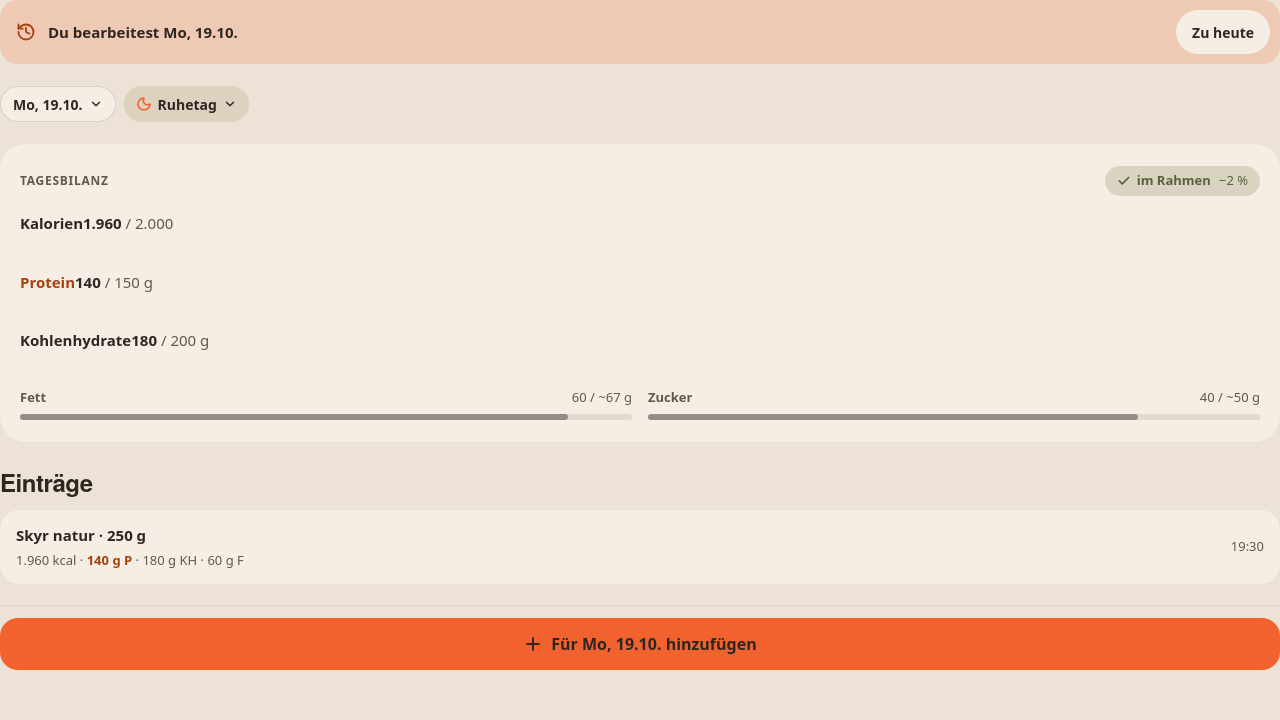
past days (D-176, D-178) › logs into the past day with the time of its last entry
The image size is (1280, 720).
Click the button "Für Mo, 19.10. hinzufügen" at (640, 644), box x1=0 y1=618 x2=1279 y2=670
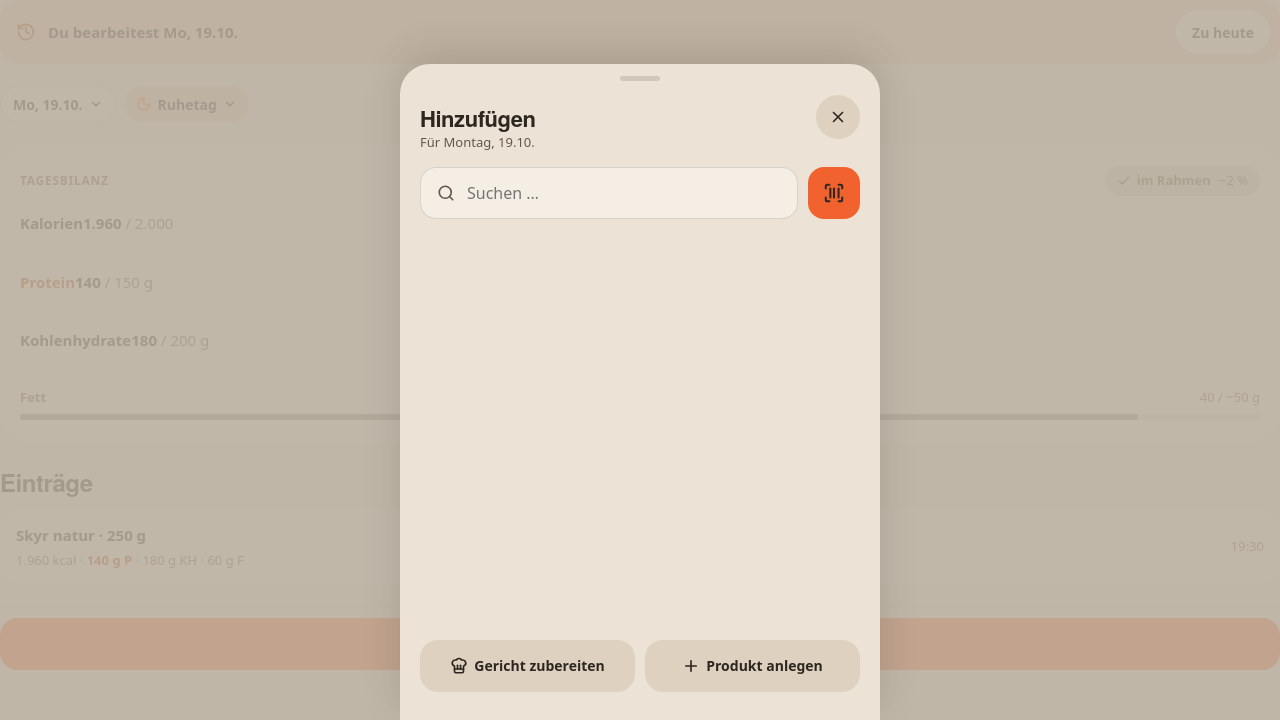
expect the dialog "Hinzufügen" shows "Für Montag, 19.10.": met, box x1=420 y1=133 x2=535 y2=151
